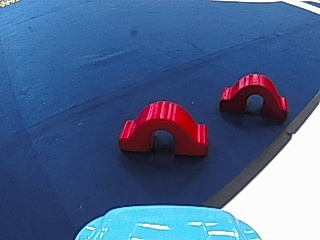bridge: (115, 96, 209, 156), (220, 68, 289, 121)
